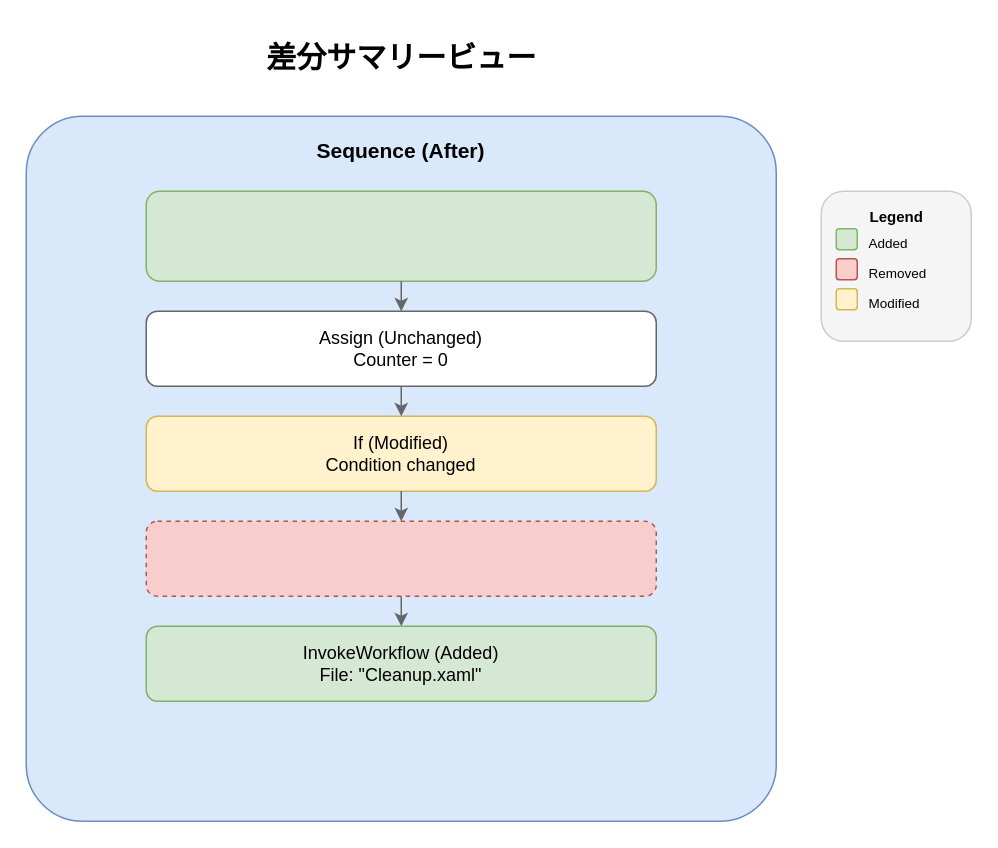
The diagram is 998 pixels wide and 848 high, and some of its shapes have lost their labels. Here are the shapes that lost their labels. From the top down, the centre of each, then its label:
pixel 400 235: LogMessage (Added) Level: Info Message: "Starting..."
pixel 400 558: Delay (Removed) Duration: 00:00:05
